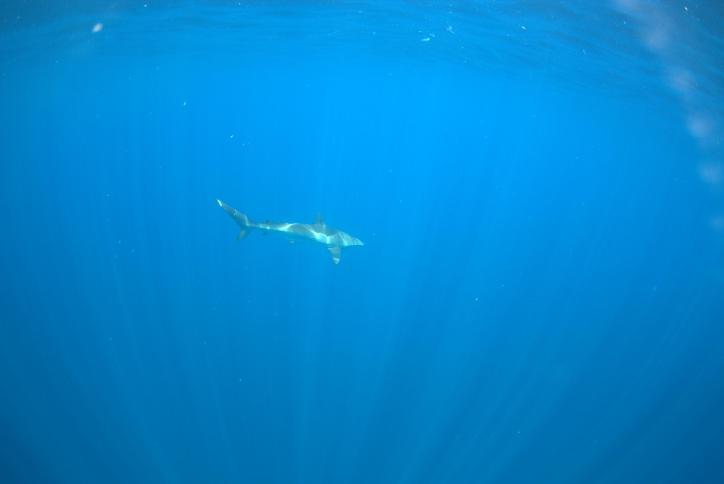Sedoso: (189, 177, 376, 271)
